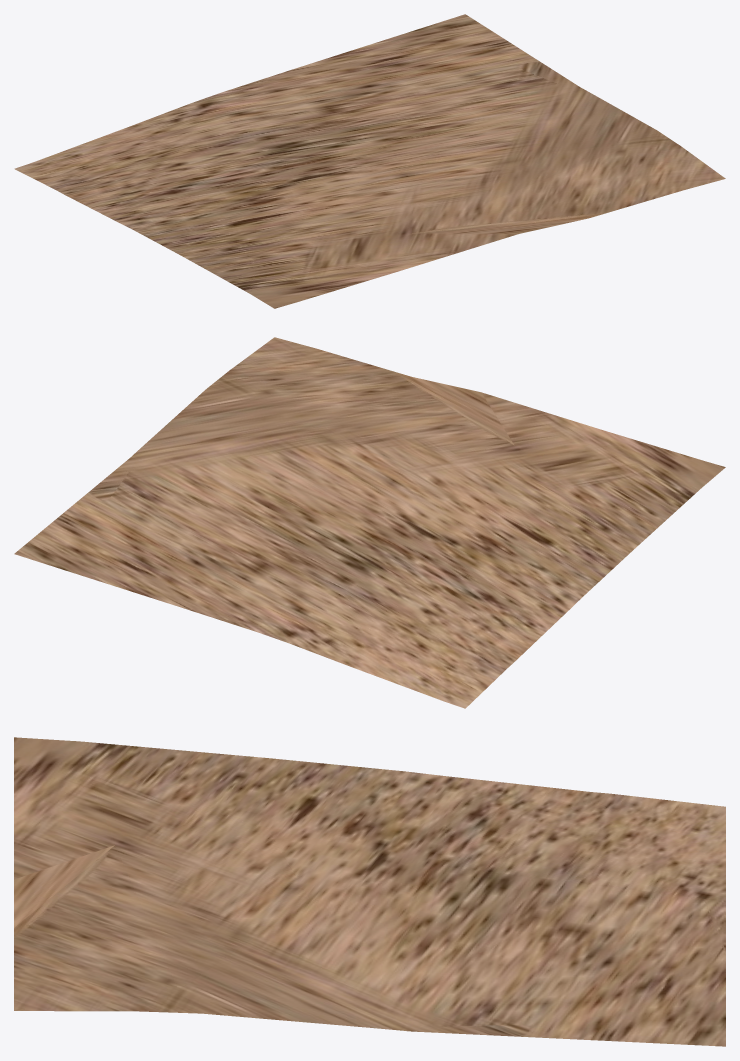
3 views of the same model, one above another, from view 1: azimuth 30°, elevation 25°; view 2: azimuth 150°, elevation 25°; view 3: azimuth 270°, elevation 25° (orthographic). The views are drawn at different scales.
Size of the model in its own units: 2.09 by 0.3127 by 2.09.
3 materials, 3 textured.
